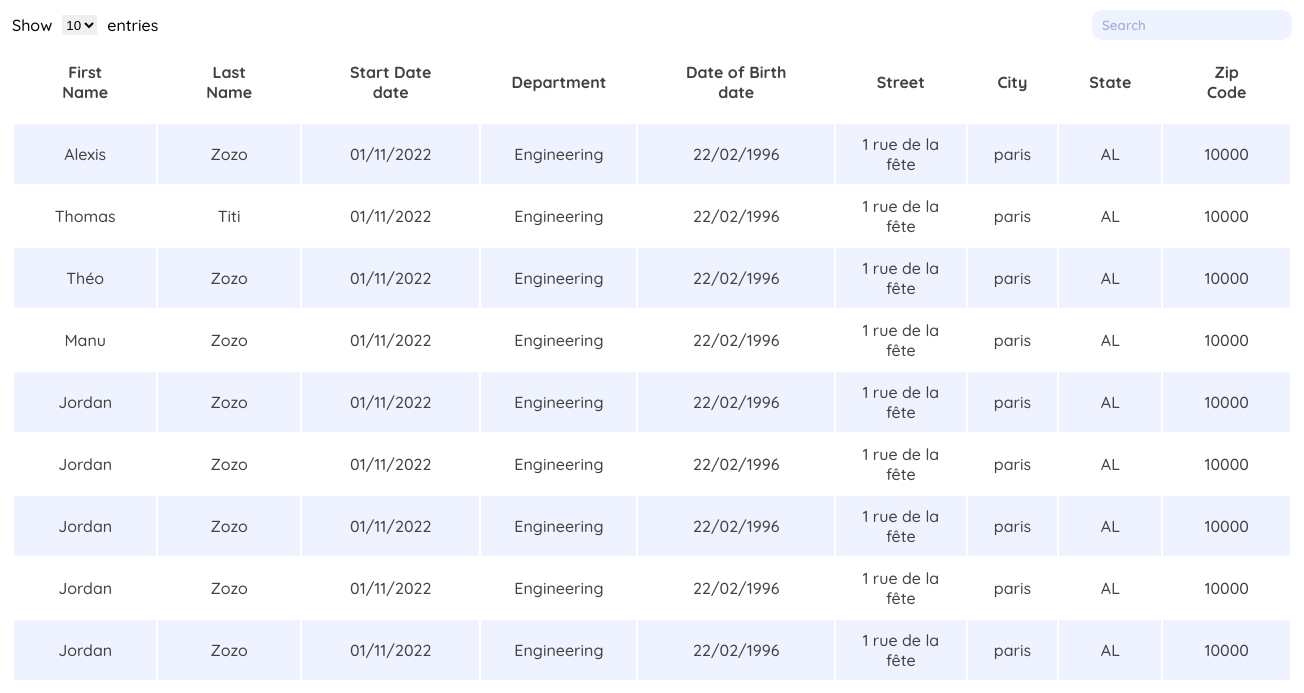
search bar find one employee
In the search field with test id "inputTable": point(1192, 25) [1092,10,1292,40], type "thomas"
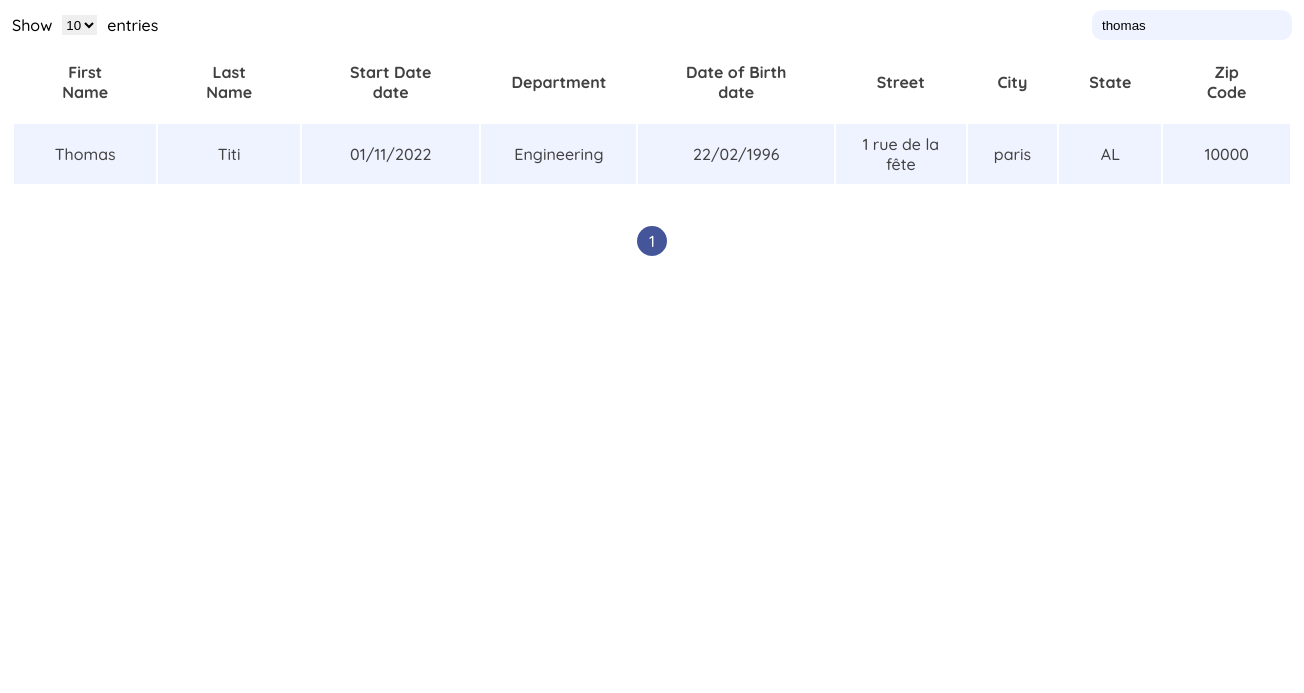
Expected: the element with test id "table" shows "Titi", [218,144,240,164]
Result: the element with test id "table" no longer shows "Zozo" at [12,0,1292,306]
